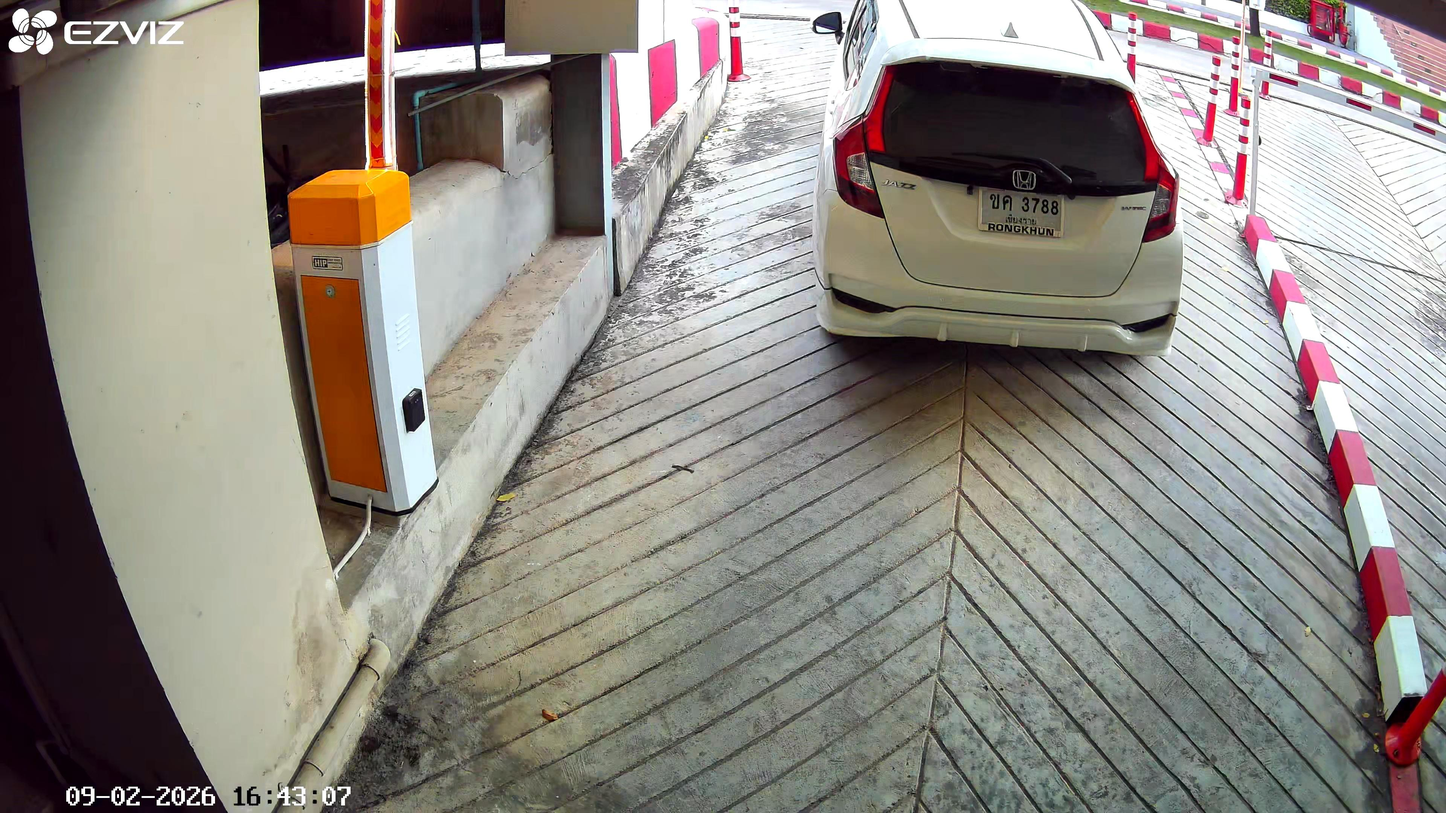car: (809, 0, 1184, 362)
license-plate: (974, 181, 1065, 238)
